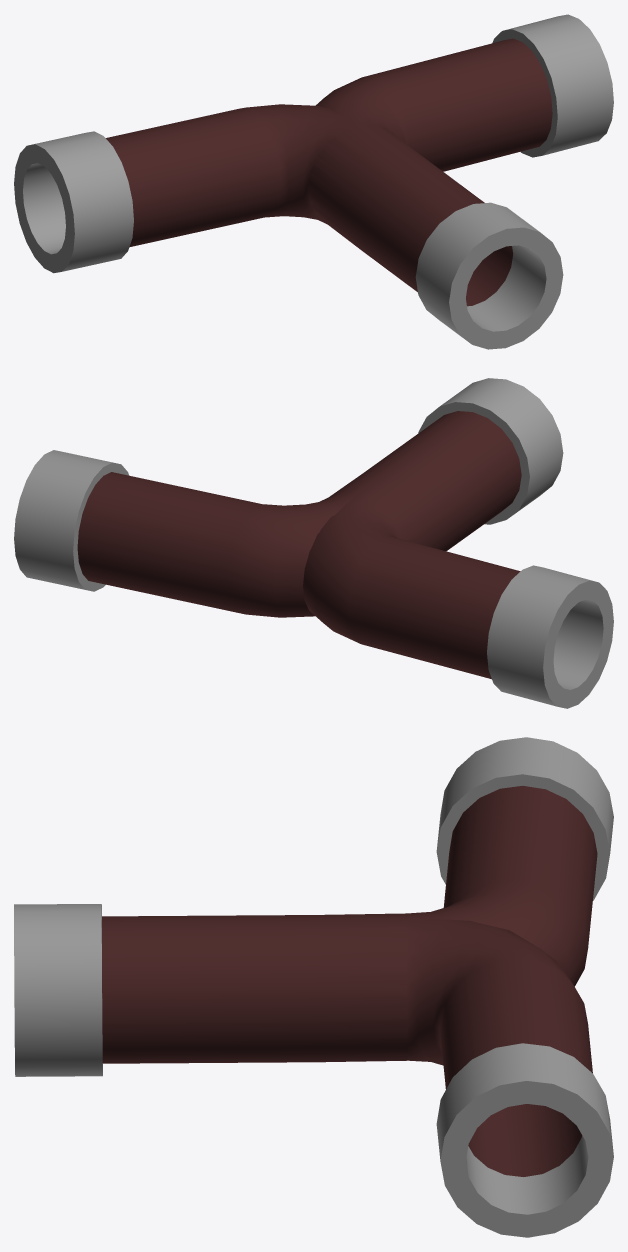
The model's file is pijp3.fbx.
3 views of the same model, one above another, from view 1: azimuth 30°, elevation 25°; view 2: azimuth 150°, elevation 25°; view 3: azimuth 270°, elevation 25° (orthographic). The views are drawn at different scales.
Visible parts, largest first — view 1: waterpijp6; view 2: waterpijp6; view 3: waterpijp6.
Part boxes in pixels (x1,y1,x2,y2): waterpijp6: (14,14,613,349); waterpijp6: (14,378,613,708); waterpijp6: (14,737,613,1237).
Size of the model in its own units: 24.55 by 5.32 by 17.98.
